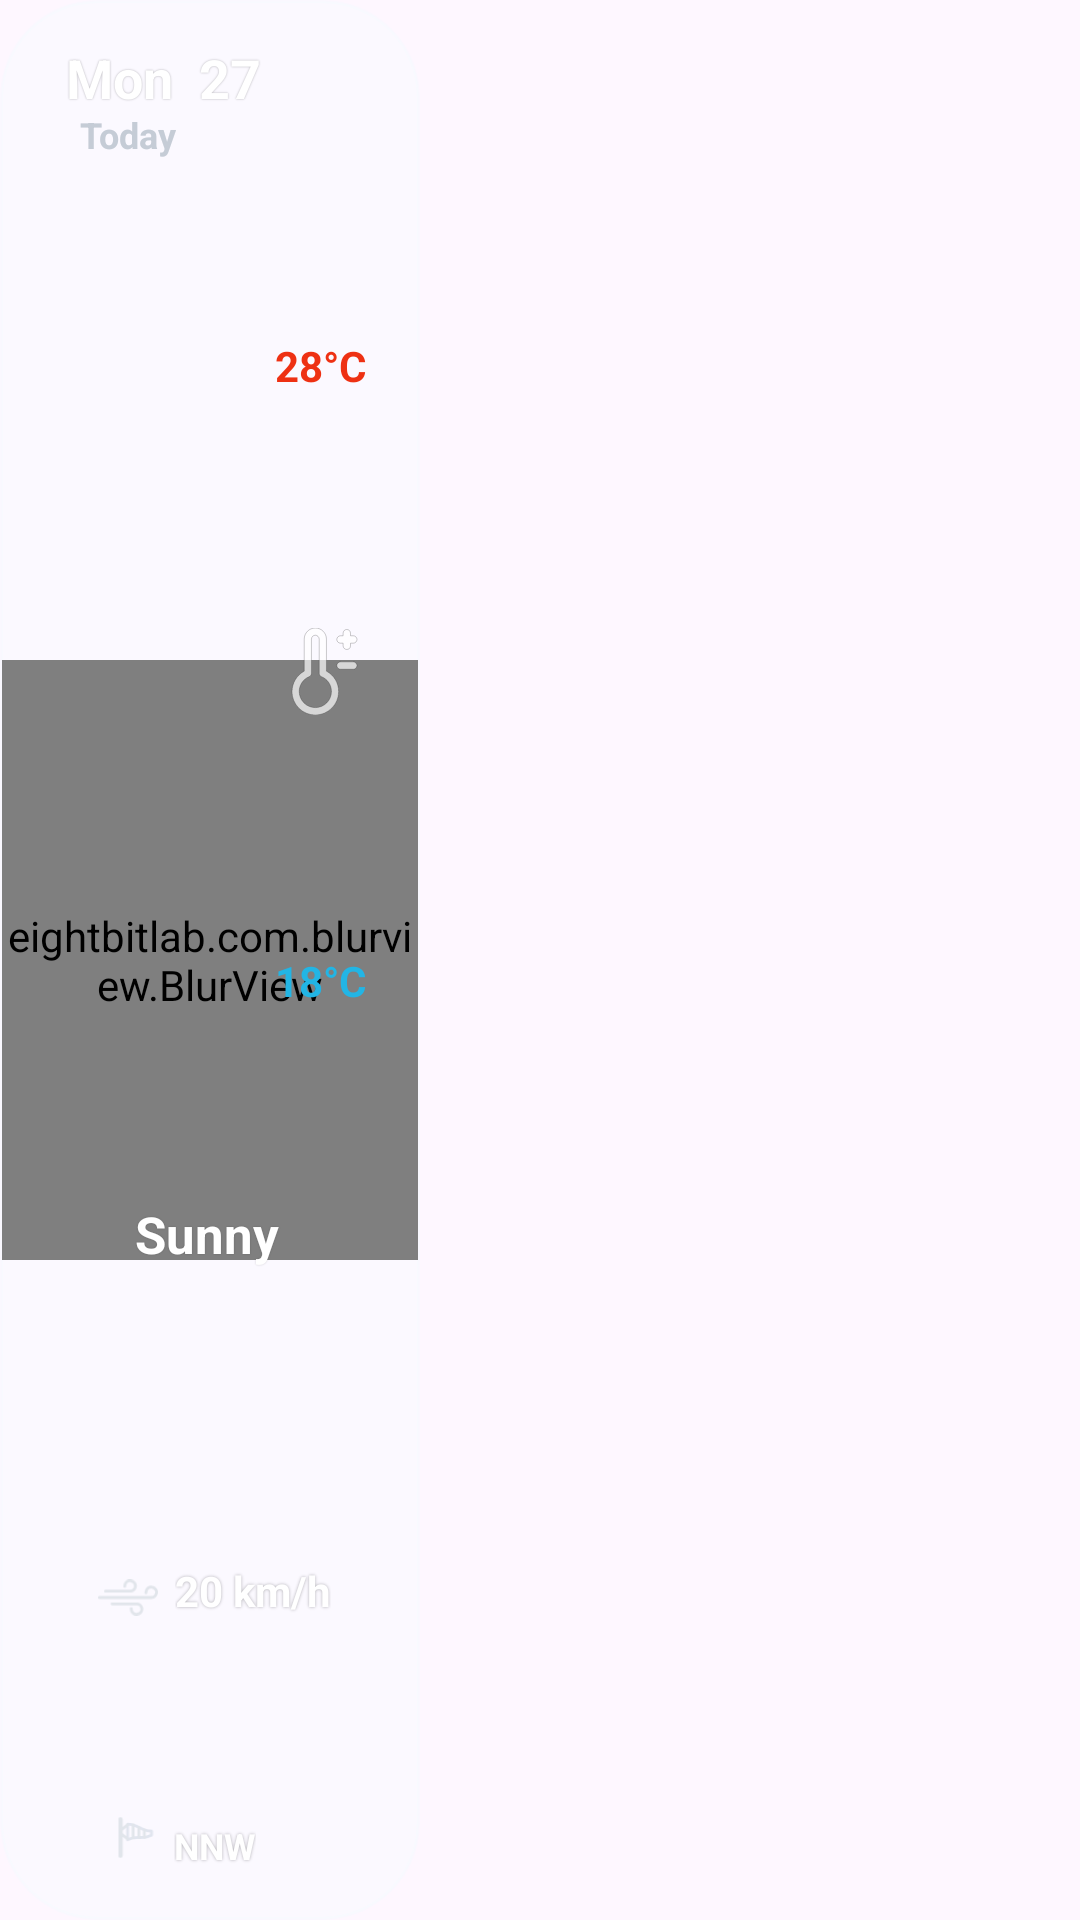

Screen size 1080 x 1920. Icon name, then its box in pixels as detection(x1, y1, x2, y2):
wind: detection(99, 1579, 157, 1616)
wind dir: detection(119, 1818, 152, 1857)
